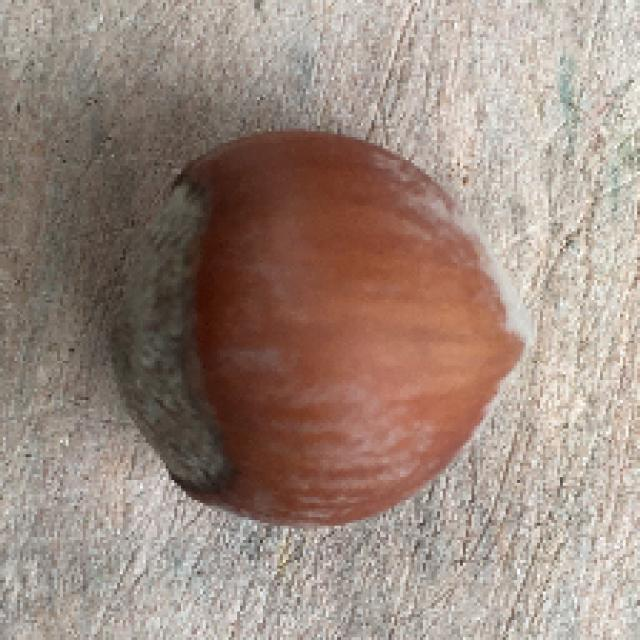qualityHazelnut: (103, 127, 538, 529)
